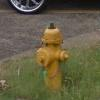Hydrant: (27, 20, 81, 97)
